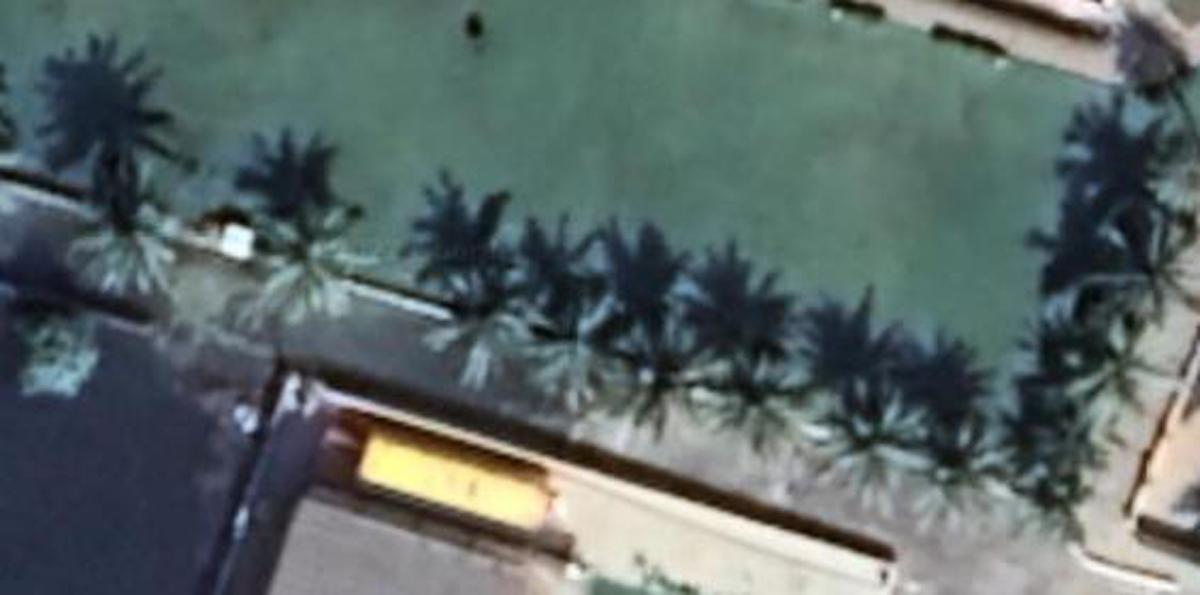coconut: (66, 157, 191, 298), (809, 371, 933, 511), (1089, 206, 1200, 349), (428, 258, 549, 388), (607, 315, 731, 441), (251, 202, 373, 315), (1072, 319, 1180, 439), (526, 272, 615, 409), (907, 415, 1006, 524), (720, 336, 805, 449), (997, 462, 1087, 539)
